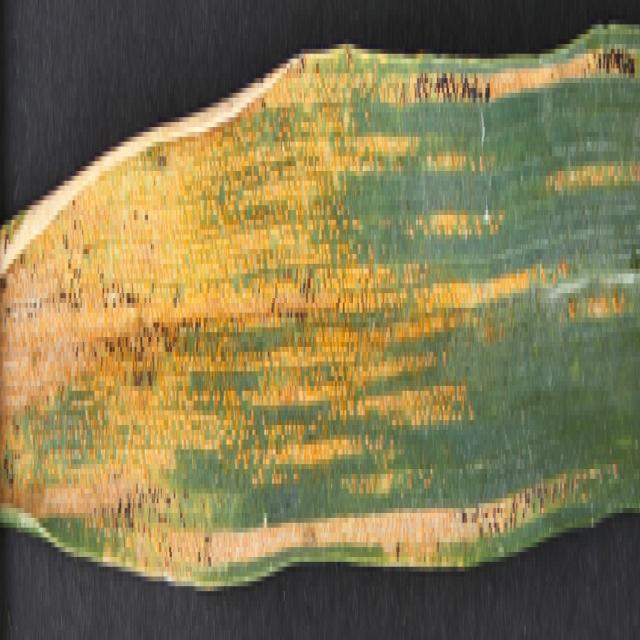leaf rust: (1, 34, 639, 586)
